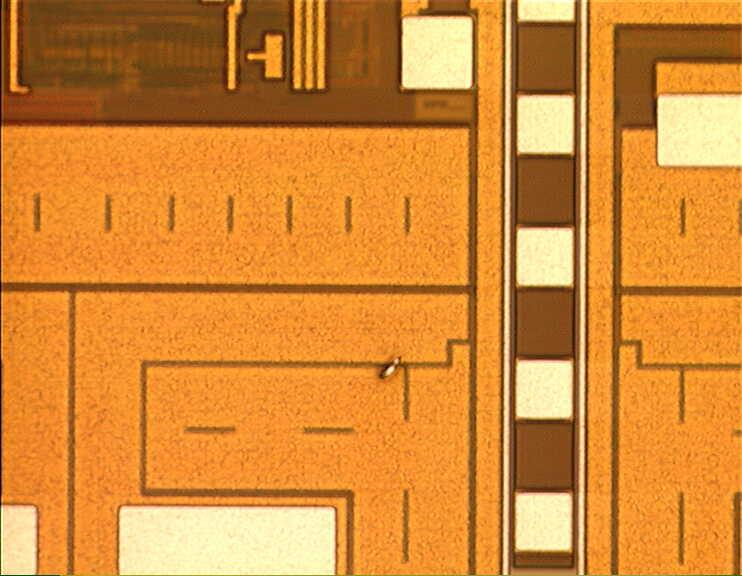PIQ PARTICLE: (376, 351, 409, 383)
